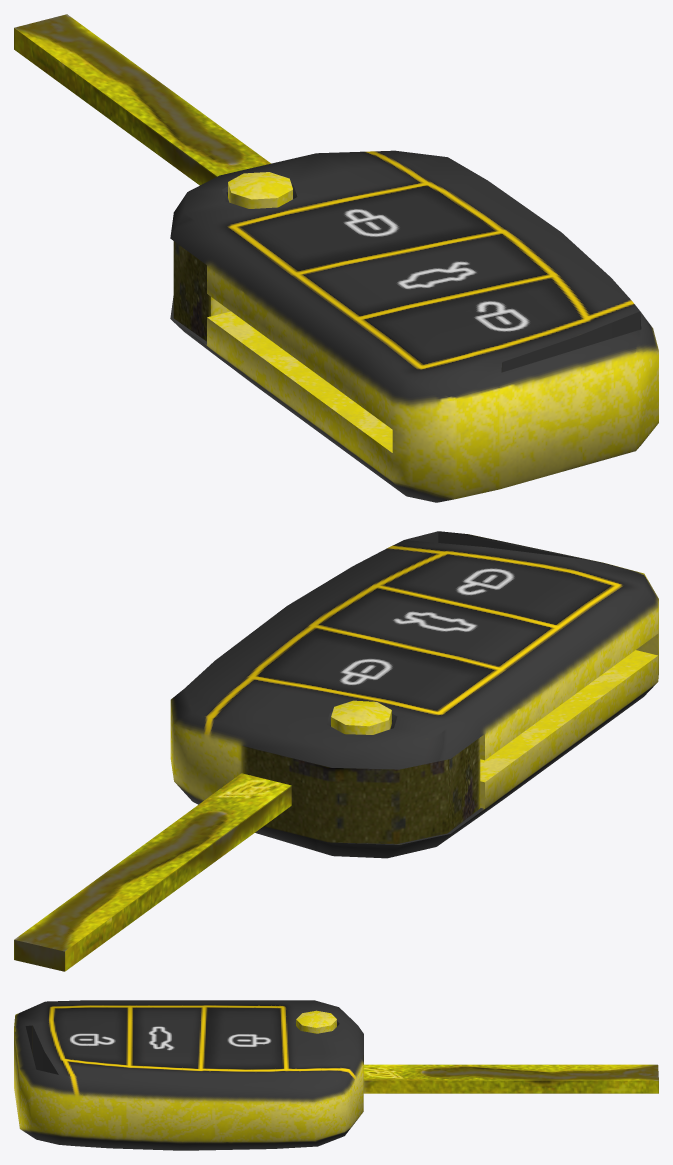
The model's file is carKey.fbx.
3 renders of one model, top to bottom at view 1: azimuth 30°, elevation 25°; view 2: azimuth 150°, elevation 25°; view 3: azimuth 270°, elevation 25°, orthographic. The views are drawn at different scales.
Parts seen in each view (by area): view 1: carKey; view 2: carKey; view 3: carKey.
Boxes of the visible parts, <box> form: carKey: <box>14,14,658,502</box>; carKey: <box>14,531,658,971</box>; carKey: <box>14,1000,658,1150</box>.
Size of the model in its own units: 0.0405 by 0.0176 by 0.1248.
Materials: 1 (1 with a texture image).
